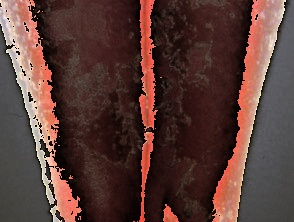SJS-TEN: (4, 0, 157, 205), (145, 0, 284, 222)
